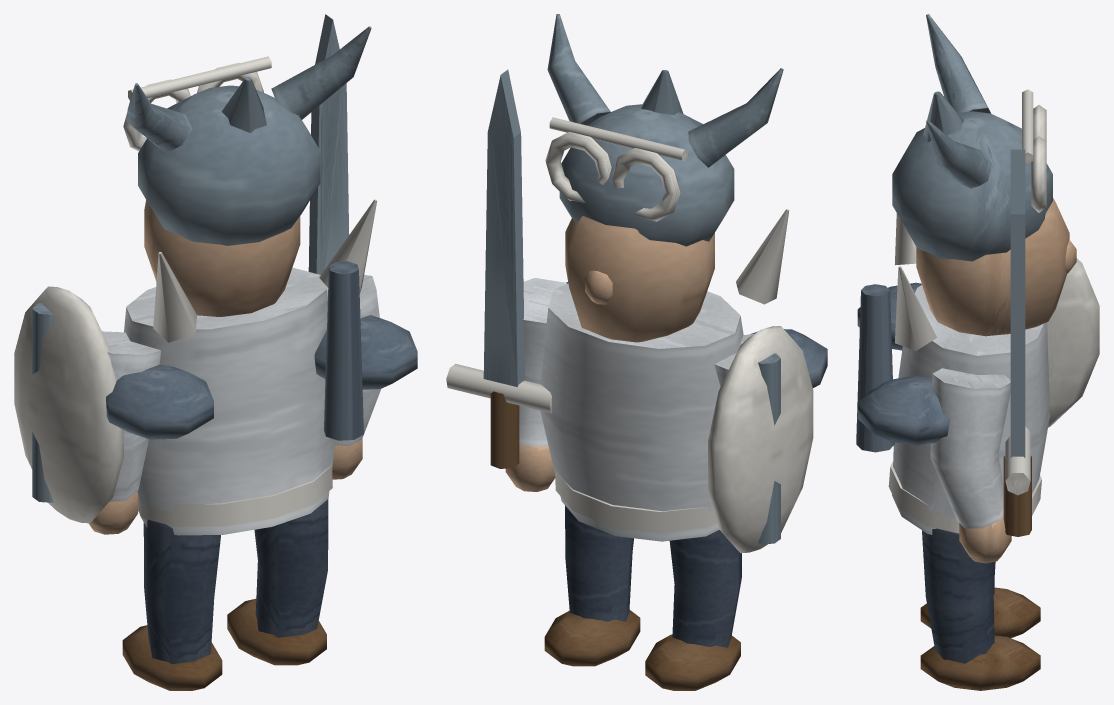
File: swordsman.glb
3 renders of one model, left to right at view 1: azimuth 30°, elevation 25°; view 2: azimuth 150°, elevation 25°; view 3: azimuth 270°, elevation 25°, orthographic. The views are drawn at different scales.
Visible parts, largest first — view 1: Body, FactionBrute, LegL, LegR, FactionIndustrial, Tool, ArmL, FactionArcane, ArmR; view 2: Body, Tool, LegL, LegR, FactionBrute, FactionIndustrial, ArmR, FactionArcane; view 3: Body, LegR, ArmR, FactionBrute, Tool, FactionIndustrial, FactionArcane, LegL.
Boxes of the visible parts, x1,y1,x2,y2 form: Body: [14, 77, 335, 535]; FactionBrute: [106, 26, 417, 439]; LegL: [122, 519, 222, 690]; LegR: [227, 499, 328, 665]; FactionIndustrial: [123, 56, 363, 440]; Tool: [308, 14, 349, 274]; ArmL: [88, 331, 161, 534]; FactionArcane: [153, 199, 377, 342]; ArmR: [325, 274, 380, 479]; Body: [540, 70, 813, 553]; Tool: [446, 69, 551, 468]; LegL: [645, 530, 741, 690]; LegR: [544, 505, 640, 666]; FactionBrute: [547, 14, 827, 387]; FactionIndustrial: [545, 117, 687, 221]; ArmR: [505, 278, 566, 491]; FactionArcane: [736, 209, 789, 304]; Body: [888, 91, 1099, 534]; LegR: [920, 528, 1040, 690]; ArmR: [930, 368, 1011, 563]; FactionBrute: [857, 14, 991, 445]; Tool: [1003, 149, 1031, 536]; FactionIndustrial: [856, 89, 1046, 452]; FactionArcane: [895, 213, 936, 350]; LegL: [920, 580, 1040, 638].
Bounding box in the file's own units: 0.2223 × 0.39 × 0.1452.
7 materials, 7 textured.
